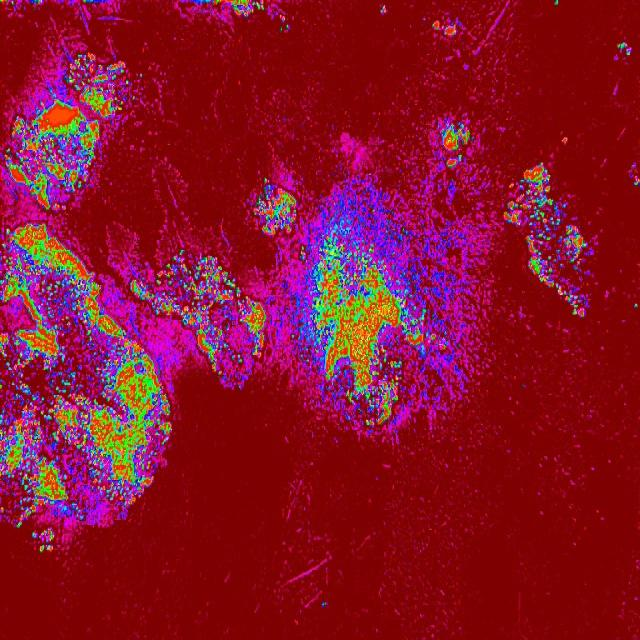fire: (292, 228, 466, 436), (1, 52, 130, 212), (128, 248, 266, 397), (0, 224, 130, 377), (1, 377, 130, 531), (503, 160, 595, 324), (310, 179, 415, 230), (130, 400, 172, 506), (252, 175, 297, 235), (434, 117, 475, 171), (430, 16, 462, 42), (230, 0, 267, 19), (29, 528, 57, 552), (616, 39, 632, 59), (189, 0, 225, 8), (278, 14, 290, 34), (631, 163, 640, 187), (0, 0, 18, 8), (80, 0, 106, 5), (561, 133, 570, 147), (318, 600, 329, 610), (381, 4, 388, 16), (28, 0, 44, 5), (138, 70, 146, 80), (131, 94, 137, 102), (554, 0, 559, 8), (634, 301, 638, 310)
